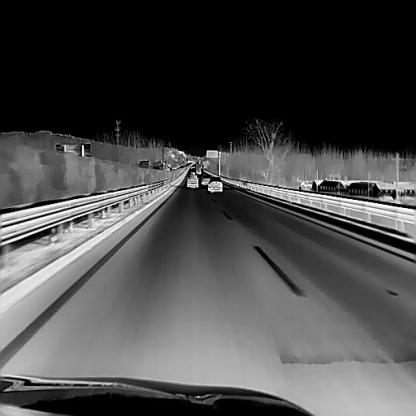car: (207, 176, 222, 192), (186, 173, 198, 187), (200, 173, 210, 184)
